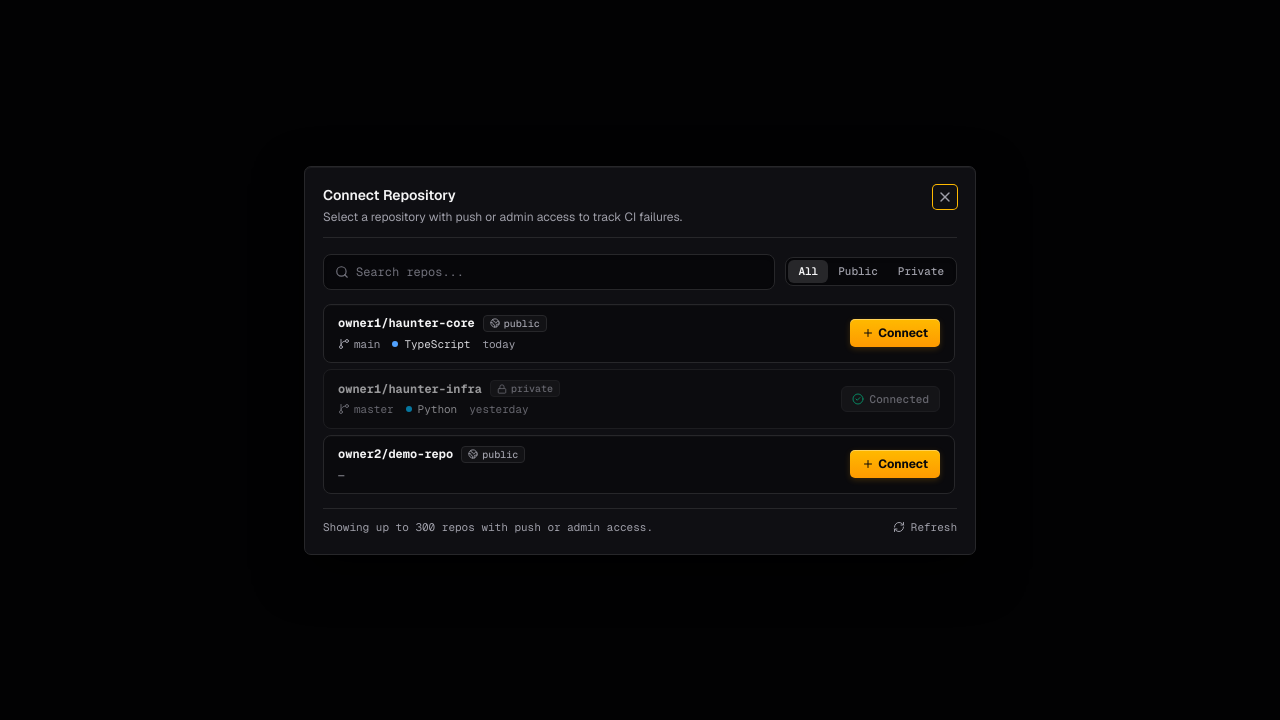
Scenario: add-repo-modal.tsx › displays error banner and keeps modal open when api.addRepo fails
Expected: the text "owner1/haunter-core" is shown, left=338, top=315, right=475, bottom=331
Click the button with id "connect-owner1-haunter-core".
click(895, 333)  # box left=850, top=319, right=940, bottom=347
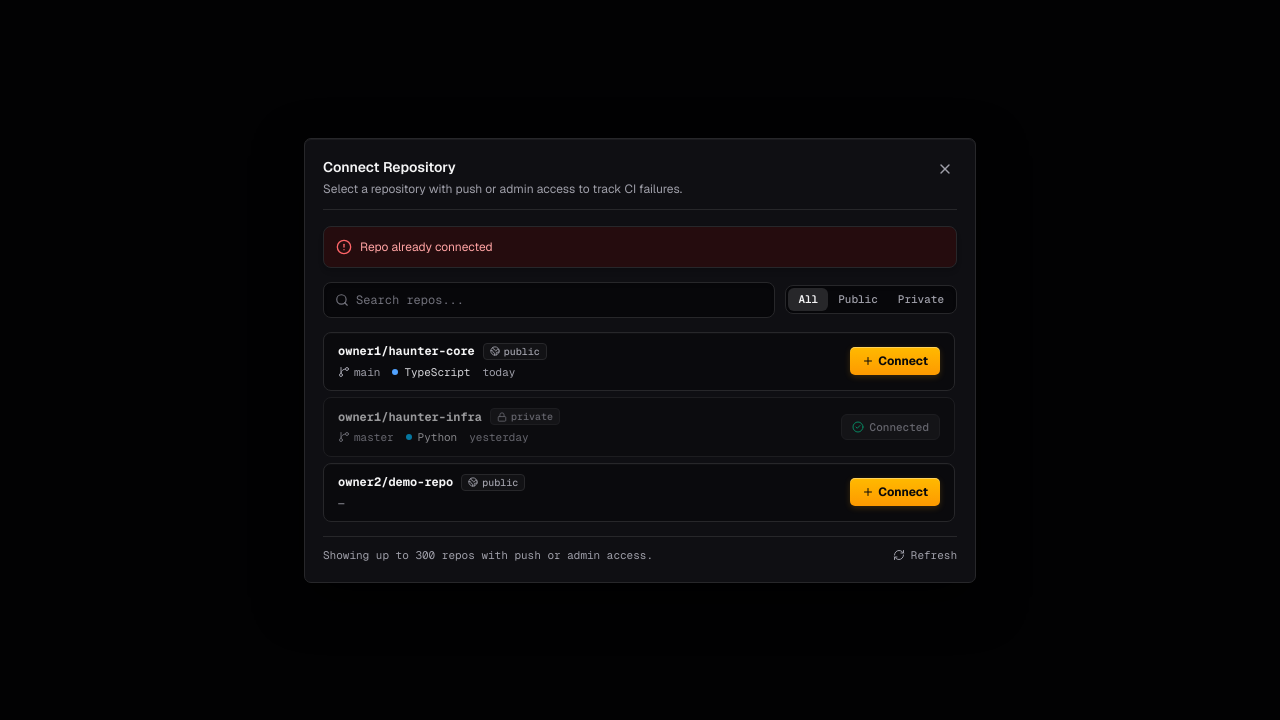
Expected: the text "Repo already connected" is shown, left=360, top=238, right=493, bottom=254
